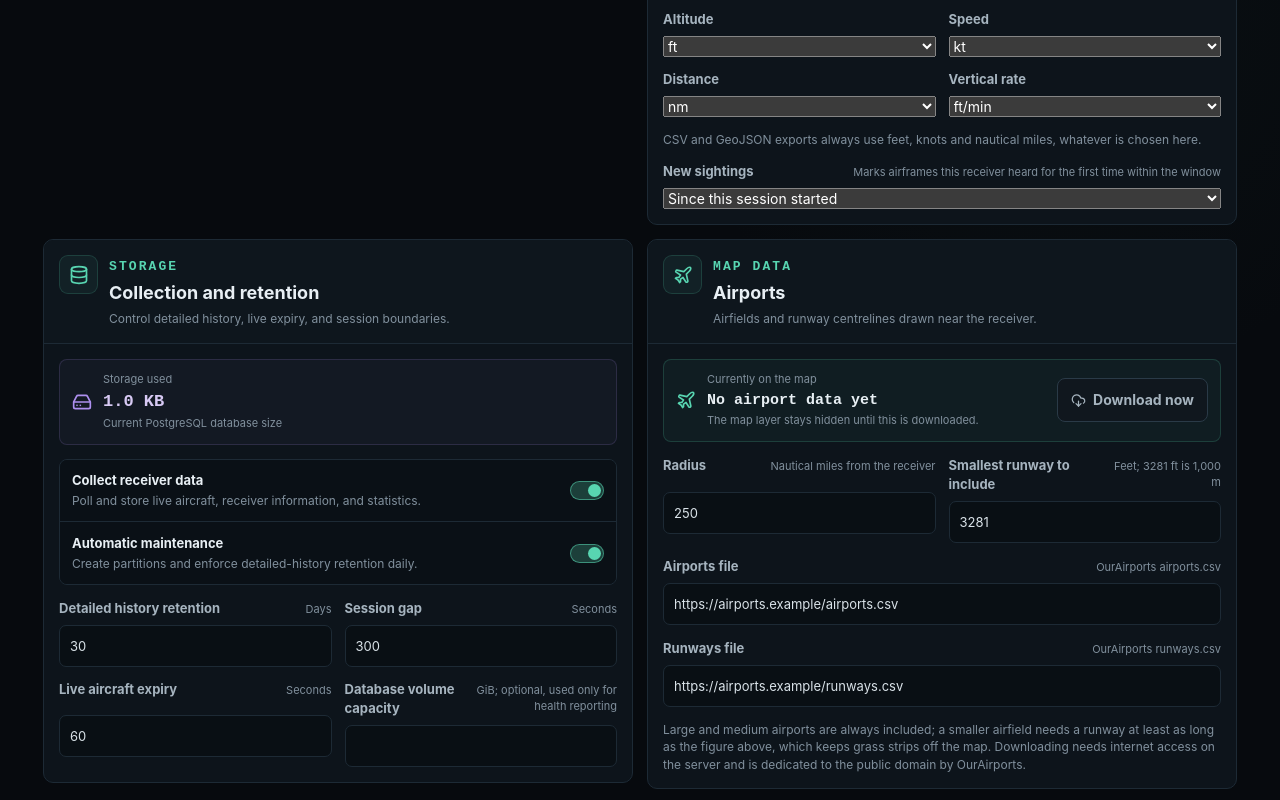
Test: the airport dataset card › reports what a download produced, from the summary rather than a re-read
(page scrolled)
Step 1. Click the button "Download now" → (1133, 400), box [1057, 378, 1208, 422]
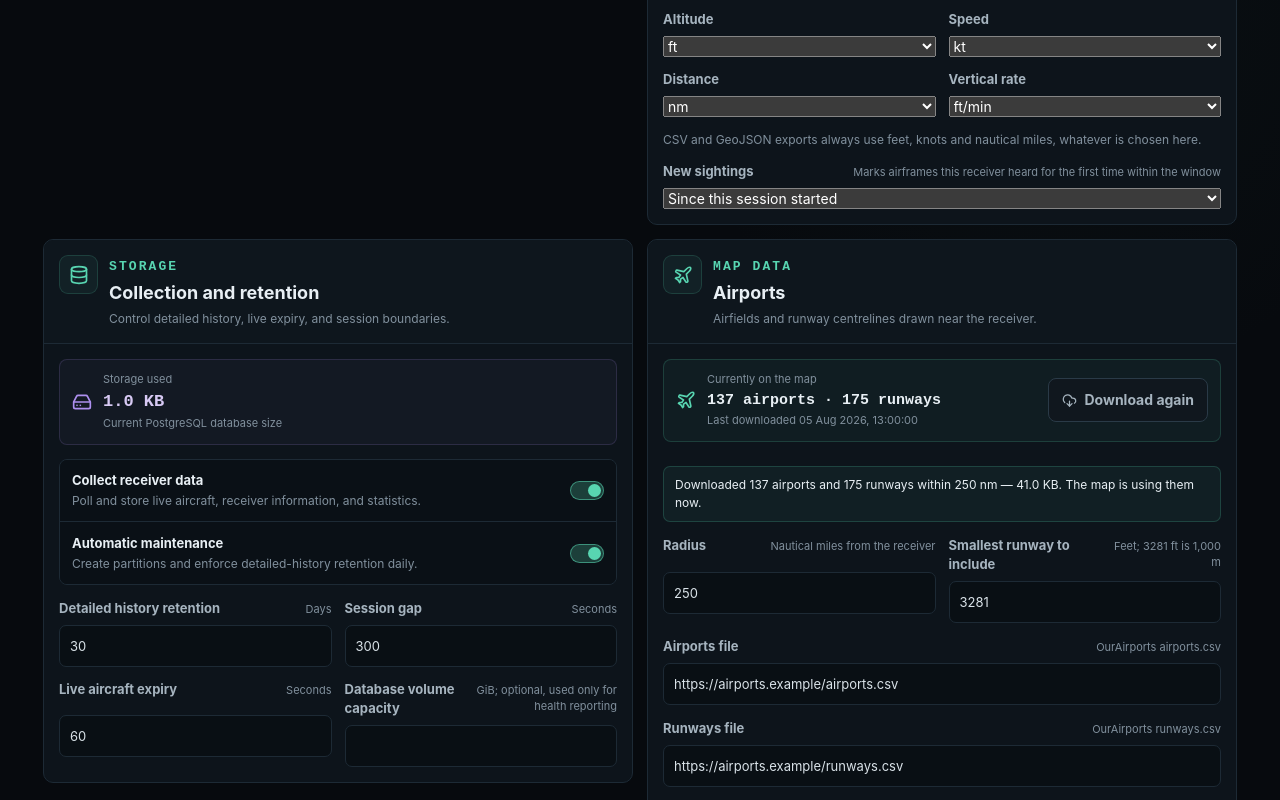
Expected: the message shows "Downloaded 137 airports and 175 runways within 250 nm", [663, 466, 1221, 522]
Expected: the text "137 airports · 175 runways" is shown, [707, 392, 941, 408]
Expected: the text "Last downloaded 05 Aug 2026, 13:00:00" is shown, [707, 413, 918, 427]
